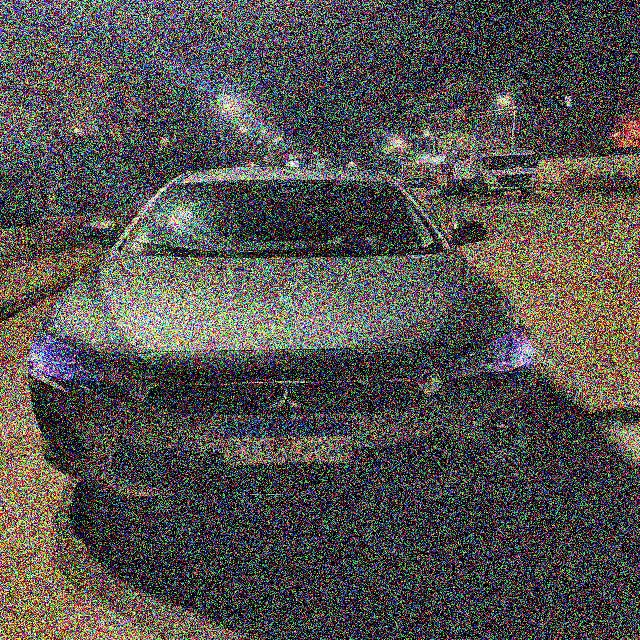License Plate: (222, 419, 354, 468)
